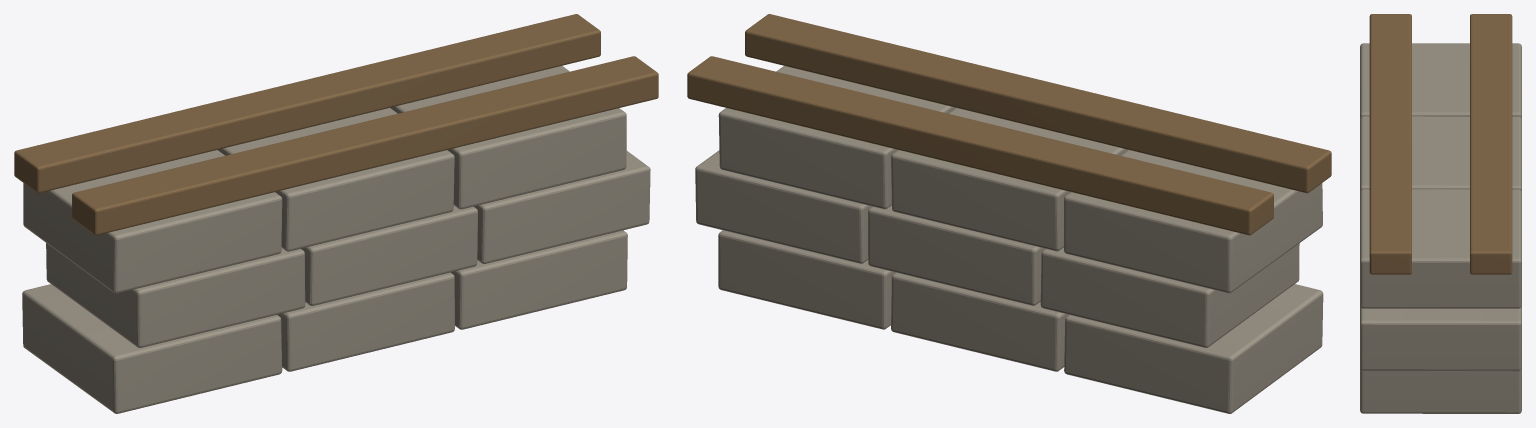
Rendered from return-masonry.glb.
3 renders of one model, left to right at view 1: azimuth 30°, elevation 25°; view 2: azimuth 150°, elevation 25°; view 3: azimuth 270°, elevation 25°, orthographic. The views are drawn at different scales.
Visible parts, largest first — view 1: return-masonry-return-rough-stone, return-masonry-return-undated-timber; view 2: return-masonry-return-rough-stone, return-masonry-return-undated-timber; view 3: return-masonry-return-rough-stone, return-masonry-return-undated-timber.
Part boxes in pixels (left/top/right/bottom): return-masonry-return-rough-stone: left=22, top=66, right=650, bottom=413; return-masonry-return-undated-timber: left=14, top=14, right=658, bottom=235; return-masonry-return-rough-stone: left=695, top=66, right=1323, bottom=413; return-masonry-return-undated-timber: left=687, top=14, right=1331, bottom=235; return-masonry-return-rough-stone: left=1360, top=43, right=1521, bottom=413; return-masonry-return-undated-timber: left=1369, top=14, right=1512, bottom=274.
Bounding box in the file's own units: 1.47 × 0.51 × 0.42.
